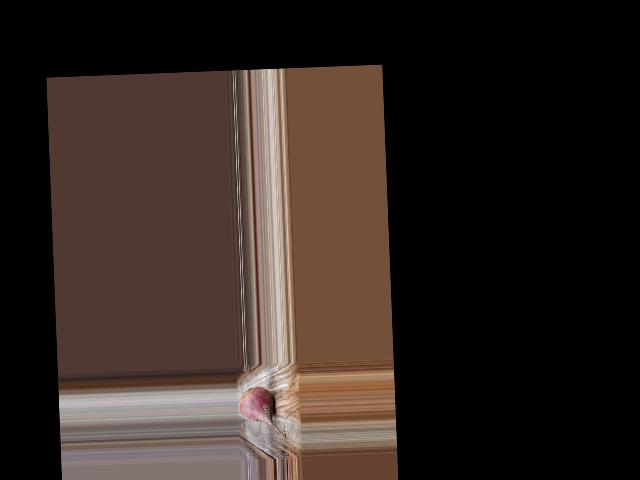beet: (238, 386, 285, 440)
